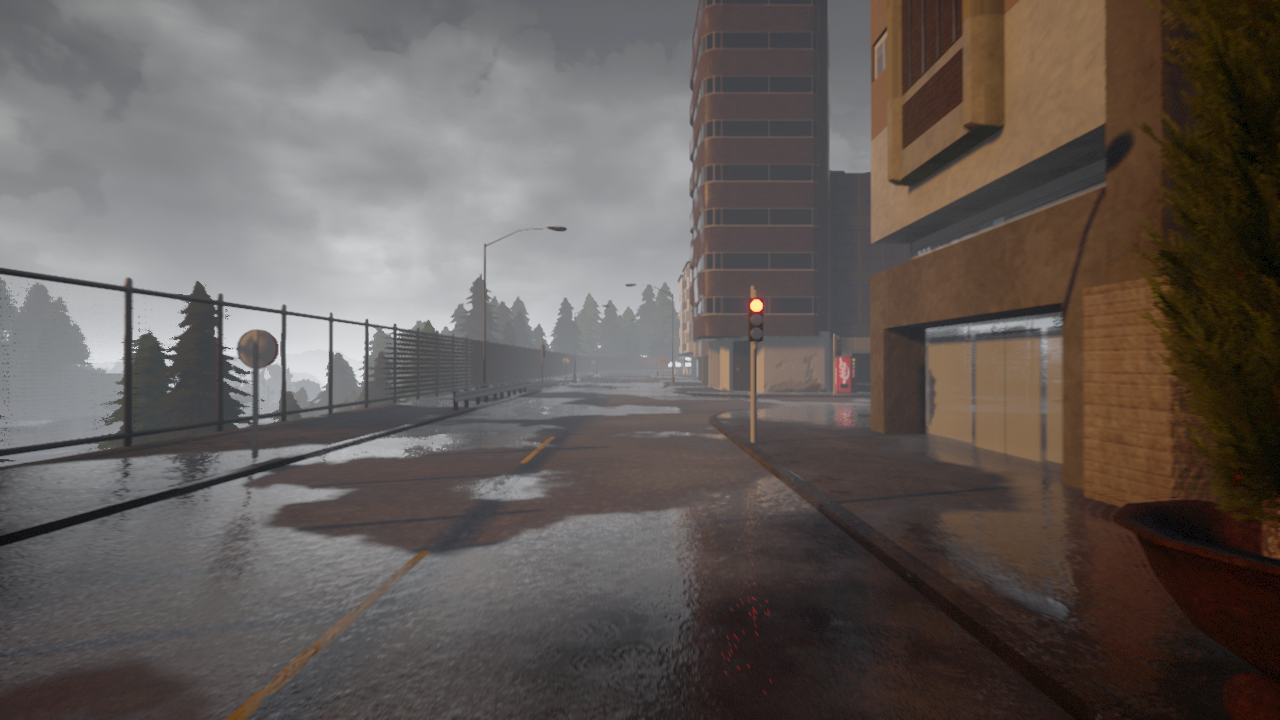red: (747, 298, 764, 343)
